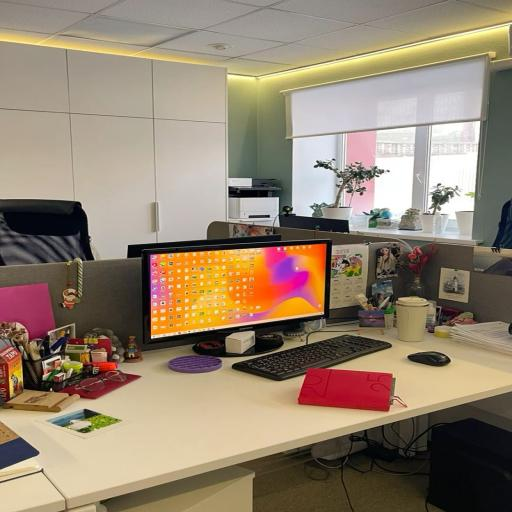bench: (390, 293, 438, 344)
bus: (0, 190, 110, 274)
